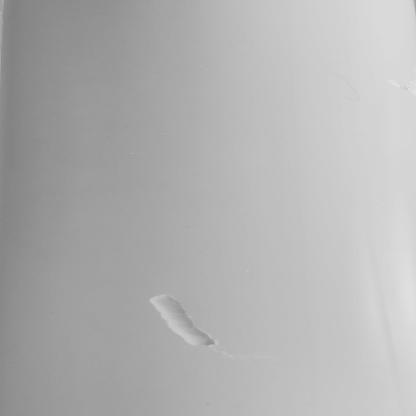sunshang: (151, 295, 219, 349)
